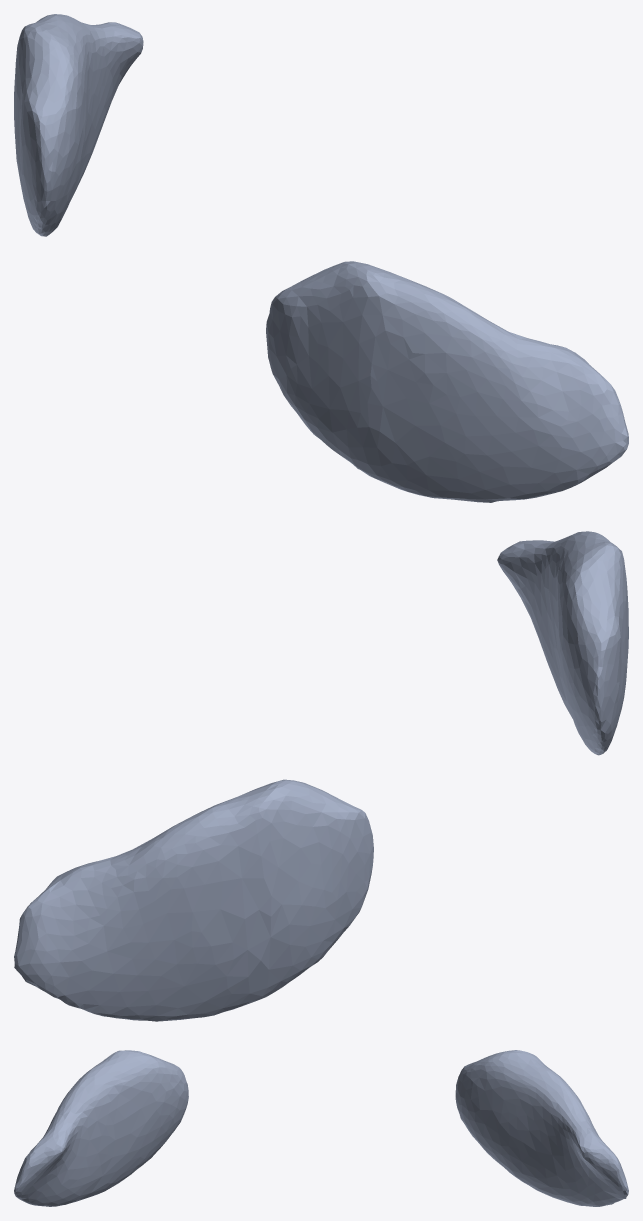
The picture shows the model from 3 angles, top to bottom: view 1: azimuth 30°, elevation 25°; view 2: azimuth 150°, elevation 25°; view 3: azimuth 270°, elevation 25°; orthographic projection. The views are drawn at different scales.
Parts seen in each view (by area): view 1: 1022.obj; view 2: 1022.obj; view 3: 1022.obj.
Boxes of the visible parts, x1,y1,x2,y2 form: 1022.obj: [14, 14, 628, 502]; 1022.obj: [14, 531, 628, 1021]; 1022.obj: [14, 1050, 628, 1206].
Size of the model in its own units: 1612 by 1520 by 6391.
